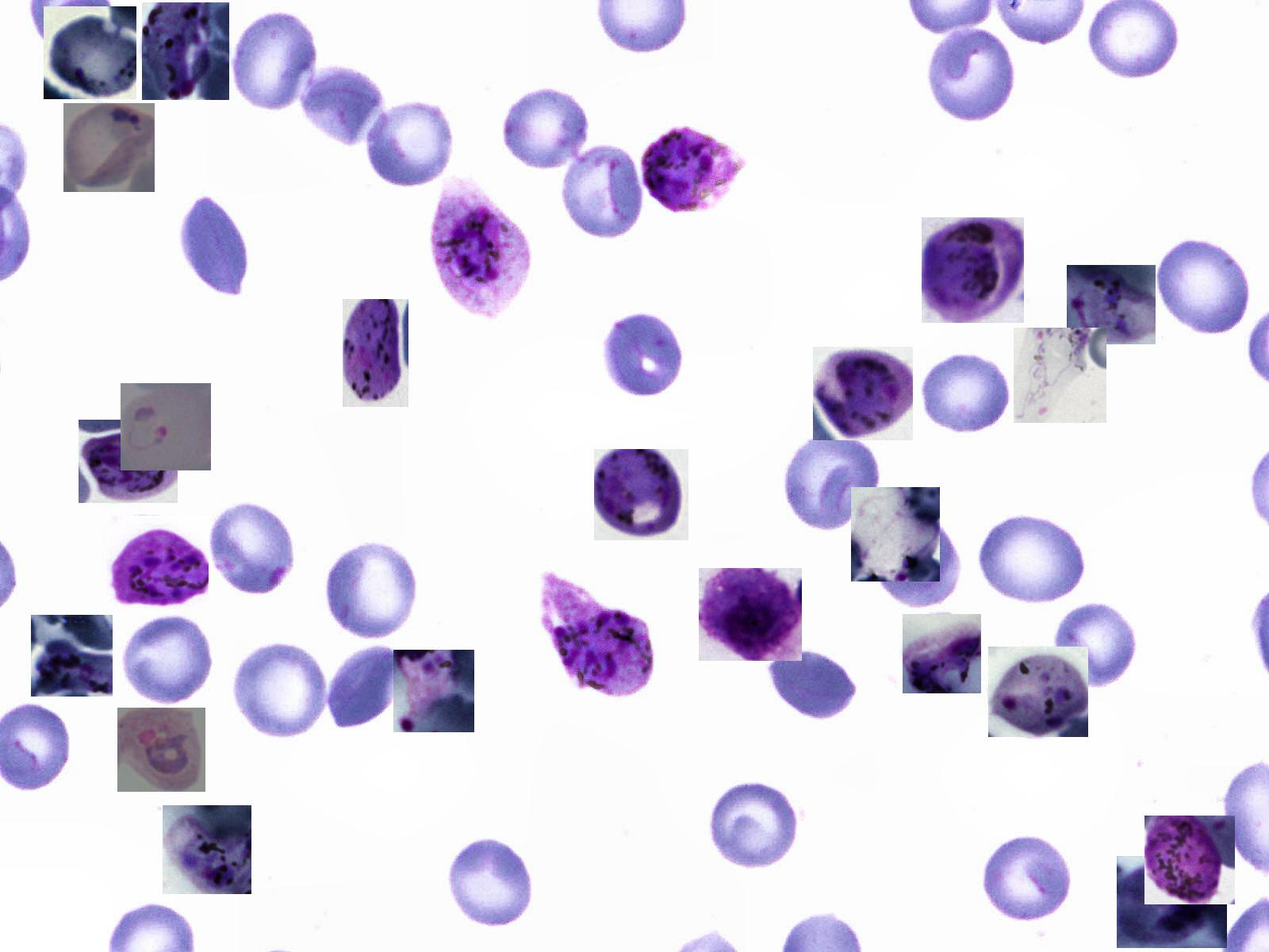Infected: (537, 574, 657, 696), (430, 182, 533, 320), (922, 217, 1024, 323), (1117, 856, 1227, 948), (699, 568, 802, 661), (106, 516, 209, 608), (813, 347, 913, 440), (642, 124, 745, 214), (988, 647, 1088, 737), (1014, 328, 1106, 423), (44, 6, 136, 99), (594, 449, 688, 540), (142, 2, 229, 100), (851, 487, 940, 582), (79, 420, 178, 503), (63, 103, 155, 192), (1144, 816, 1235, 904), (163, 805, 251, 894), (121, 383, 211, 470), (117, 708, 205, 792), (1067, 265, 1156, 344), (343, 299, 408, 407), (31, 615, 113, 697), (393, 650, 474, 732), (903, 614, 981, 693)
Uninfected: (1153, 236, 1253, 340), (229, 639, 330, 741), (979, 516, 1089, 608), (324, 539, 418, 642), (228, 9, 320, 113), (704, 777, 800, 873), (784, 436, 880, 528), (446, 835, 538, 930), (121, 612, 216, 704), (365, 96, 457, 190), (208, 499, 298, 594), (871, 516, 963, 608), (927, 29, 1016, 124), (983, 833, 1075, 924), (498, 82, 590, 172), (922, 347, 1009, 438), (560, 144, 643, 238), (1053, 603, 1141, 687), (301, 60, 384, 148), (767, 646, 860, 722), (182, 197, 250, 297), (605, 311, 682, 396), (331, 643, 400, 731)
